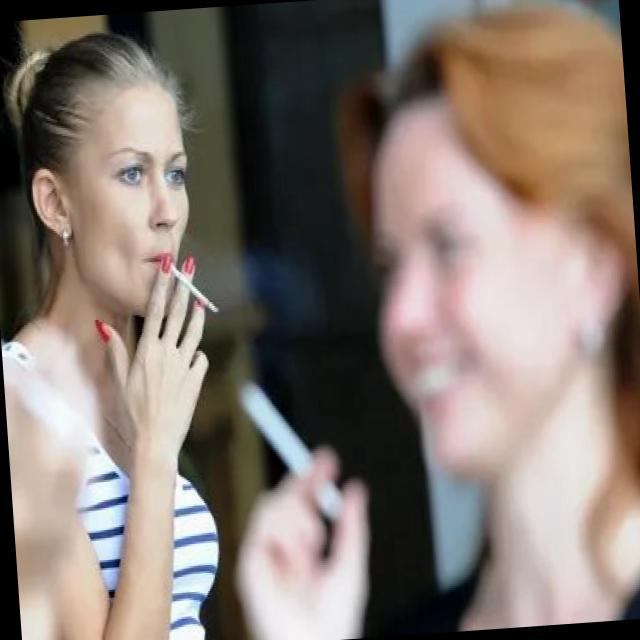cigarette: (232, 362, 357, 532), (166, 254, 228, 326)
